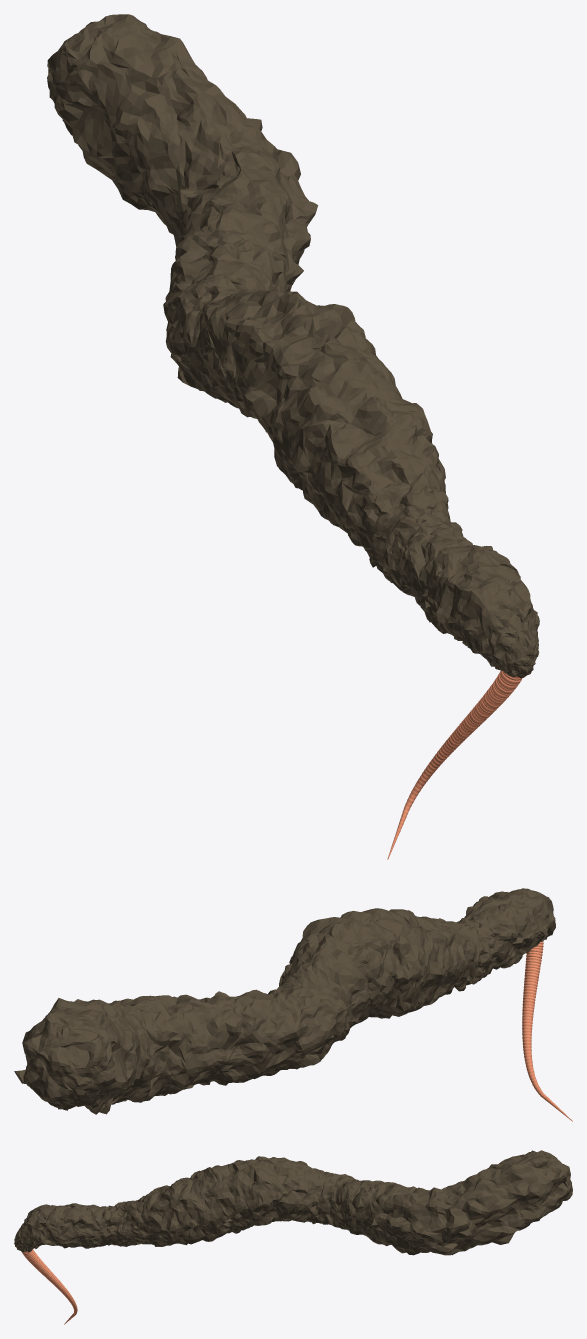
File: worm map.fbx
3 renders of one model, top to bottom at view 1: azimuth 30°, elevation 25°; view 2: azimuth 150°, elevation 25°; view 3: azimuth 270°, elevation 25°, orthographic. The views are drawn at different scales.
Parts seen in each view (by area): view 1: cave, big worm; view 2: cave, big worm; view 3: cave, big worm.
Part boxes in pixels (<box>): cave: <box>47,14,539,678</box>; big worm: <box>387,670,522,859</box>; cave: <box>14,888,555,1114</box>; big worm: <box>522,941,572,1121</box>; cave: <box>14,1150,572,1255</box>; big worm: <box>22,1249,77,1324</box>.
Size of the model in its own units: 9773 by 13726 by 31490.
